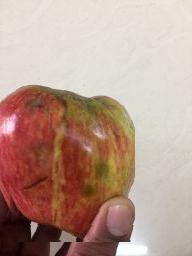Apple Rotten: (2, 82, 135, 242)
